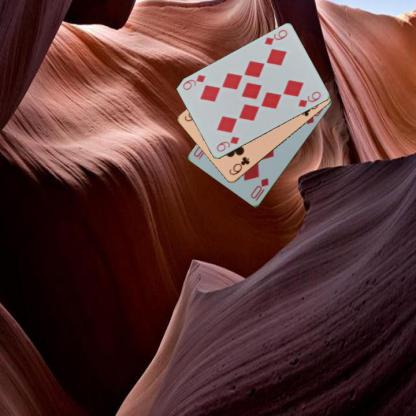10d: (248, 176, 270, 200)
6c: (226, 154, 251, 177)
9d: (214, 134, 240, 154), (262, 27, 288, 47)
